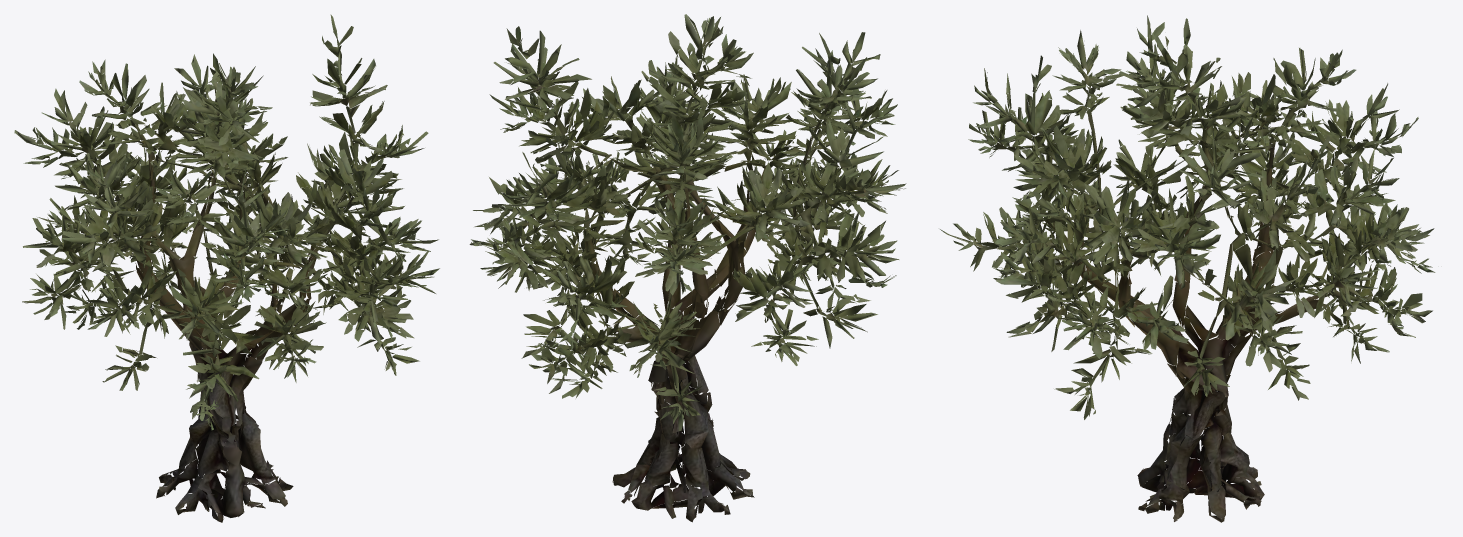
The model's file is sunward_olive.glb.
The picture shows the model from 3 angles, left to right: view 1: azimuth 30°, elevation 25°; view 2: azimuth 150°, elevation 25°; view 3: azimuth 270°, elevation 25°; orthographic projection. The views are drawn at different scales.
Parts seen in each view (by area): view 1: tripo_node_66a9242c-c9a2-40bf-b57d-9c8e6d986089; view 2: tripo_node_66a9242c-c9a2-40bf-b57d-9c8e6d986089; view 3: tripo_node_66a9242c-c9a2-40bf-b57d-9c8e6d986089.
Boxes of the visible parts, x1,y1,x2,y2 form: tripo_node_66a9242c-c9a2-40bf-b57d-9c8e6d986089: [14, 14, 439, 522]; tripo_node_66a9242c-c9a2-40bf-b57d-9c8e6d986089: [469, 14, 906, 522]; tripo_node_66a9242c-c9a2-40bf-b57d-9c8e6d986089: [940, 15, 1435, 522].
Size of the model in its own units: 4.38 by 5 by 4.88.
1 material, 1 textured.
